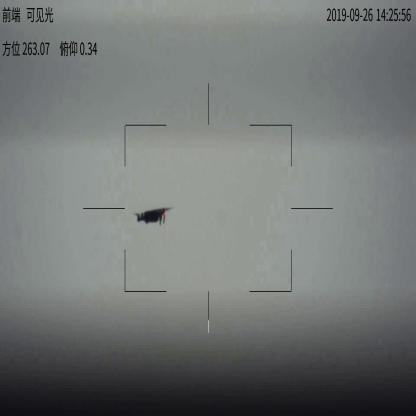uav: (128, 204, 175, 226)
